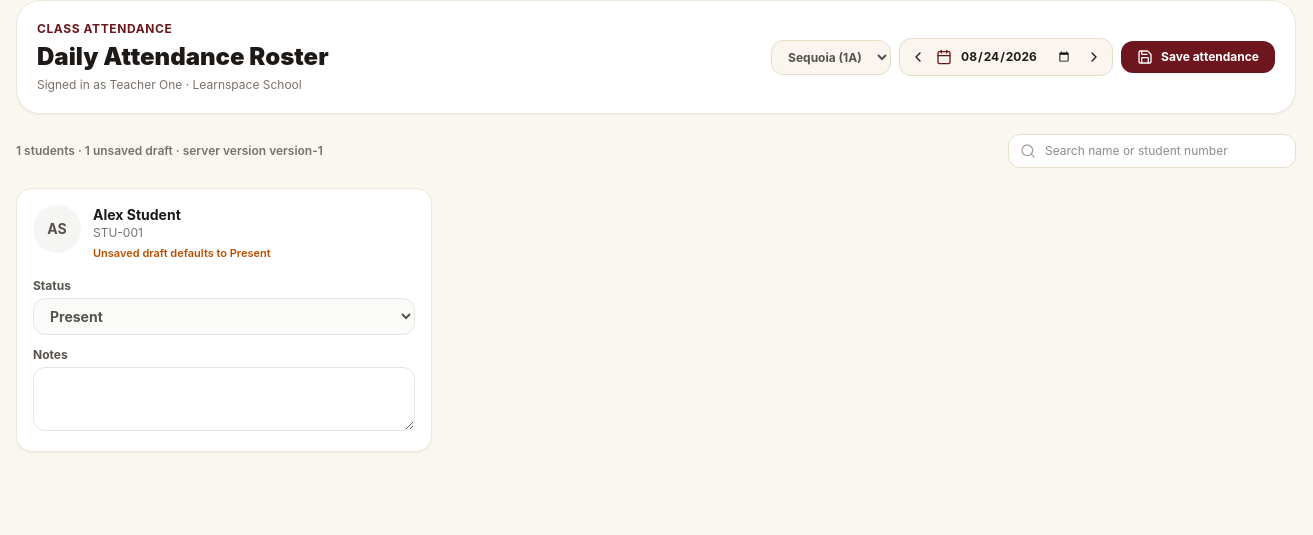
Test case: AttendanceView › discards a pending save response after the class/date context changes
Expected: the heading "Alex Student" is shown, [93, 206, 181, 223]
Click the button "Save attendance" at (1198, 57), box [1121, 41, 1275, 73]
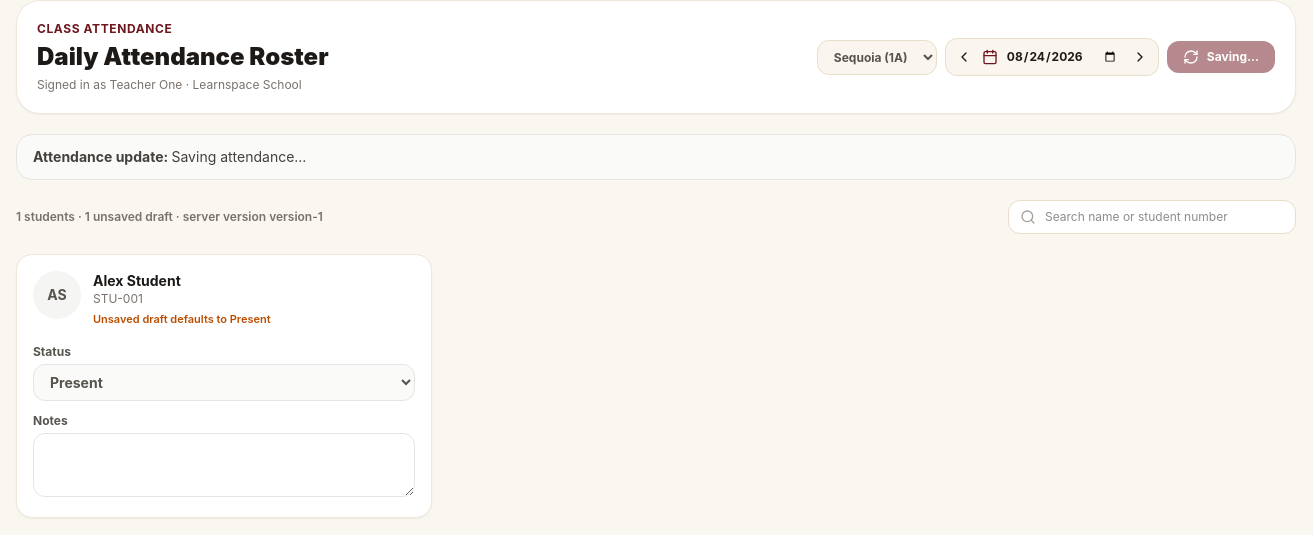
Click the button named "next day" at (1140, 57), box [1126, 43, 1154, 71]
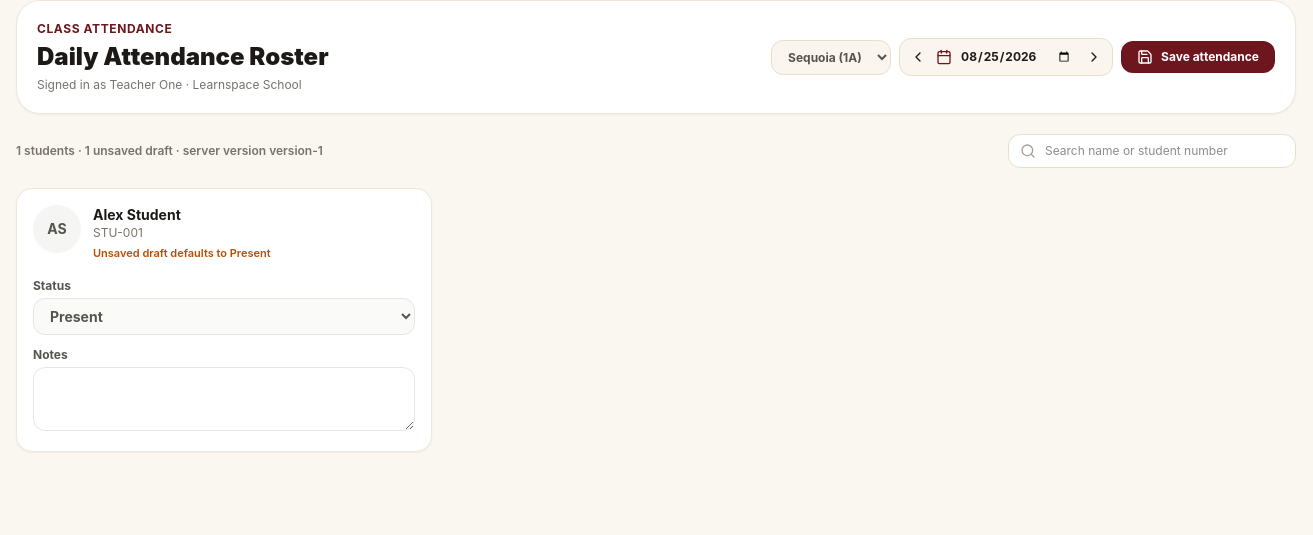
Expected: the text "1 students · 1 unsaved draft · server version version-1" is shown, [16, 143, 323, 159]
Expected: the date field named "School date" holds "2026-08-25", [952, 49, 1080, 65]
